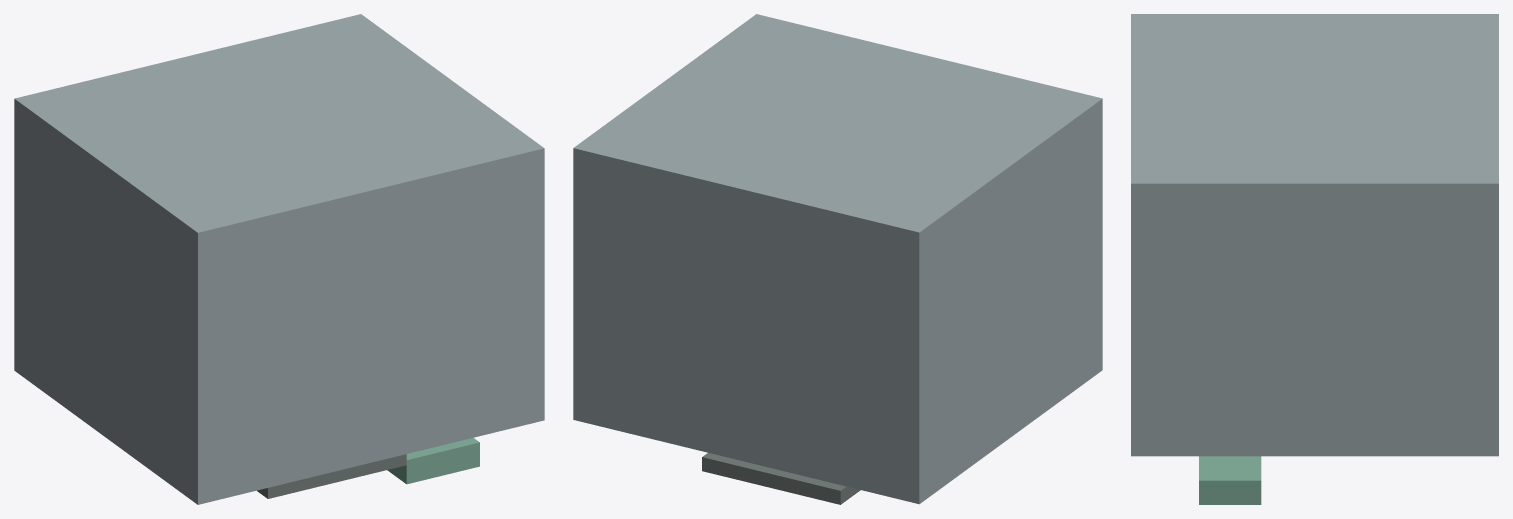
Rendered from cold-storage-eco.glb.
The picture shows the model from 3 angles, left to right: view 1: azimuth 30°, elevation 25°; view 2: azimuth 150°, elevation 25°; view 3: azimuth 270°, elevation 25°; orthographic projection.
Visible parts, largest first — view 1: chamber, controller, door; view 2: chamber, door; view 3: chamber, controller.
Part boxes in pixels (box(x1,y1,x2,y2)): chamber: box(14, 14, 544, 504); controller: box(387, 438, 479, 484); door: box(257, 454, 406, 498); chamber: box(573, 14, 1102, 504); door: box(702, 453, 860, 504); chamber: box(1131, 14, 1498, 456); controller: box(1199, 456, 1261, 504).
Bounding box in the file's own units: 1.8 × 1.67 × 1.65.
